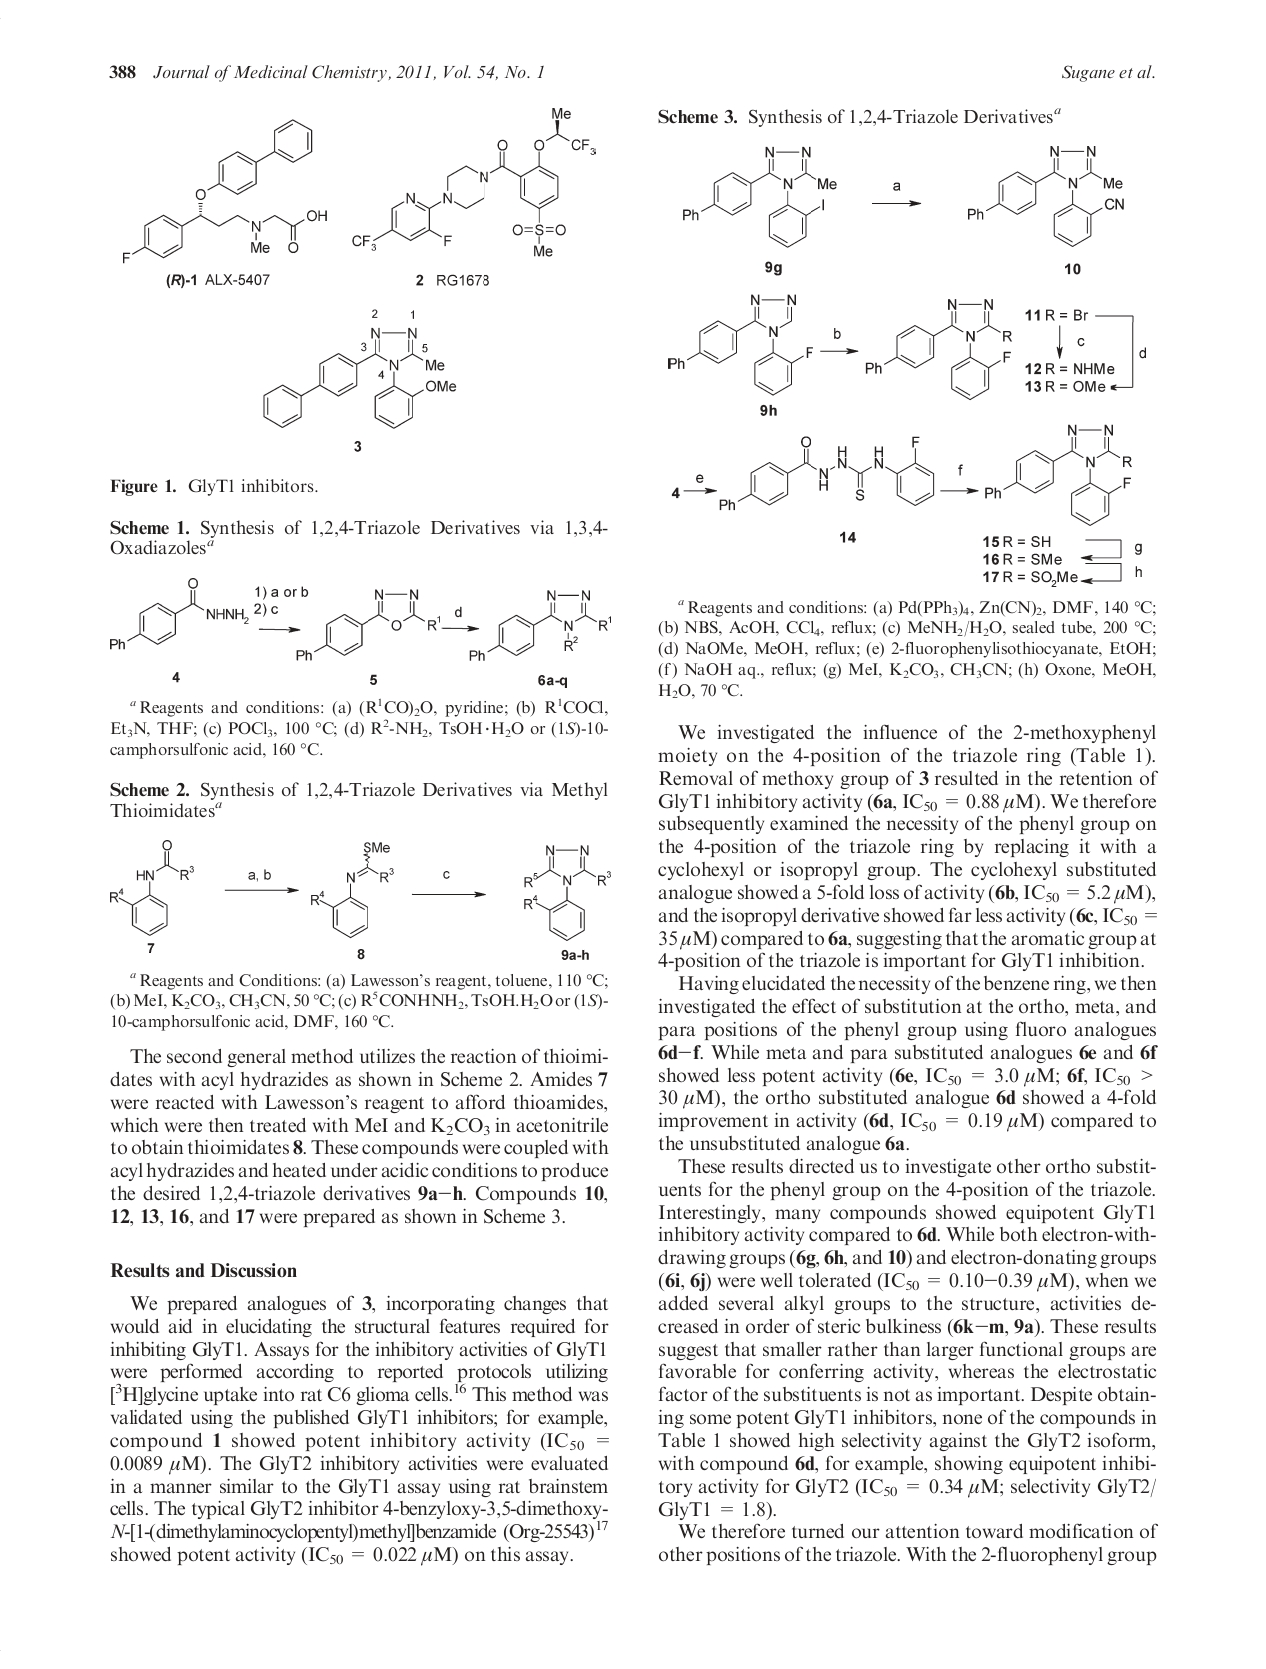exist_molecular: (348, 106, 596, 258), (118, 116, 328, 265), (261, 323, 456, 430), (717, 432, 938, 515), (676, 144, 839, 250), (964, 144, 1128, 247), (664, 290, 814, 398), (983, 423, 1136, 527), (862, 297, 1013, 399), (106, 575, 253, 652), (295, 588, 443, 664), (469, 586, 612, 664), (521, 842, 613, 942), (106, 835, 195, 938), (309, 838, 394, 938)
